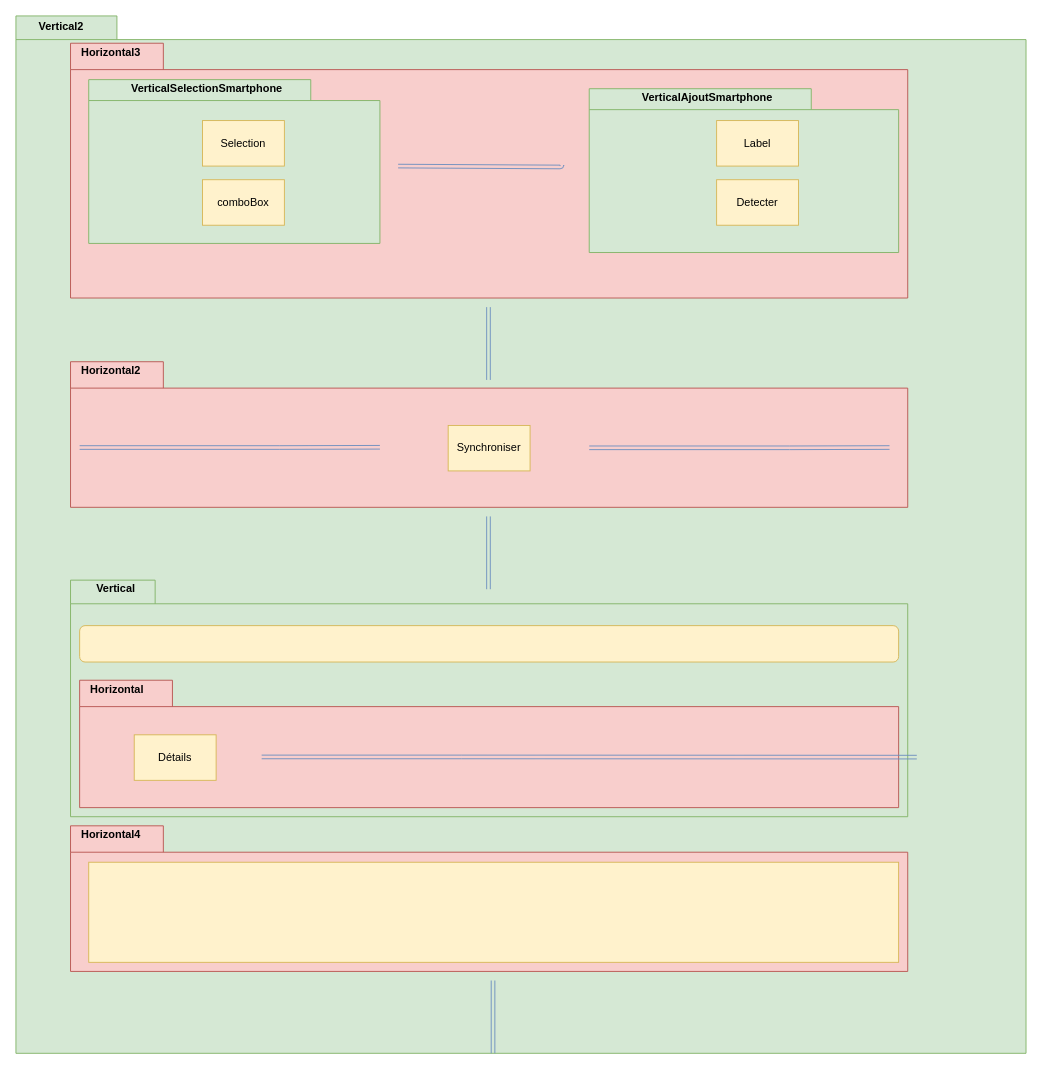
This 1042x1069 diagram has some shape labels left out. The shapes that lost their labels are listed below. From the top down, each one's centre as x and y in pixels, then its label:
At point 489,643: "ProgressBar".
At point 493,911: "ListWidgetLog".
